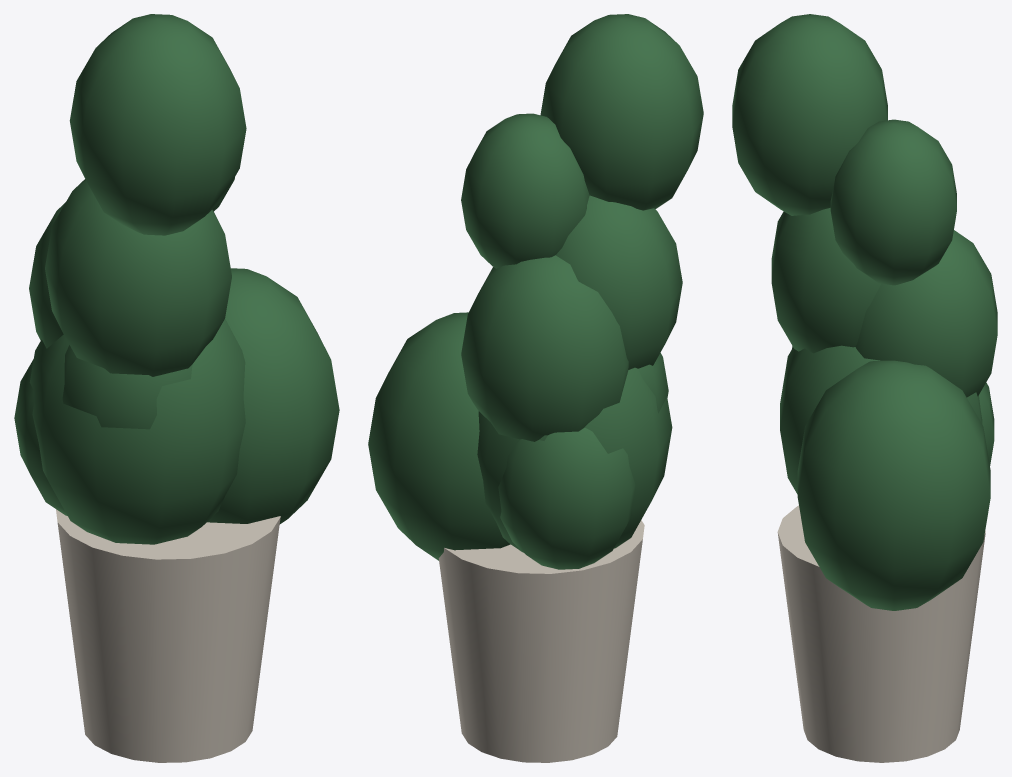
Rendered from Plant_5.glb.
The picture shows the model from 3 angles, left to right: view 1: azimuth 30°, elevation 25°; view 2: azimuth 150°, elevation 25°; view 3: azimuth 270°, elevation 25°; orthographic projection. The views are drawn at different scales.
Visible parts, largest first — view 1: Plant_5_Foliage, Plant_5_Planter; view 2: Plant_5_Foliage, Plant_5_Planter; view 3: Plant_5_Foliage, Plant_5_Planter.
Boxes of the visible parts, <box> form: Plant_5_Foliage: <box>14,14,339,544</box>; Plant_5_Planter: <box>56,509,280,762</box>; Plant_5_Foliage: <box>368,14,703,569</box>; Plant_5_Planter: <box>438,520,644,762</box>; Plant_5_Foliage: <box>732,14,997,610</box>; Plant_5_Planter: <box>777,505,985,762</box>.
Bounding box in the file's own units: 0.5947 × 1.46 × 0.5097.
